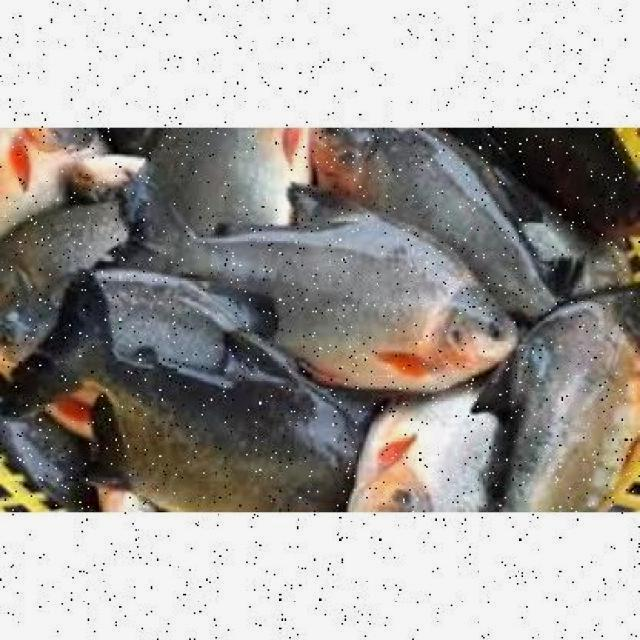ikan-pacu: (8, 316, 370, 510), (173, 204, 516, 384), (347, 388, 515, 510)
